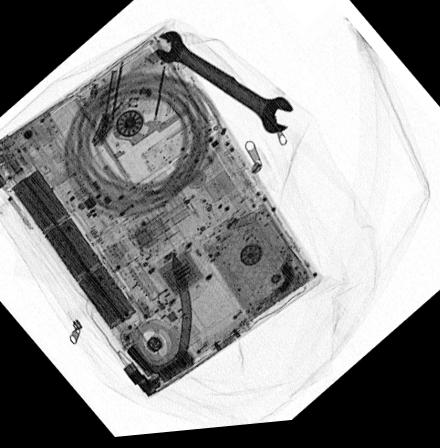Wrench: (152, 31, 295, 141)
